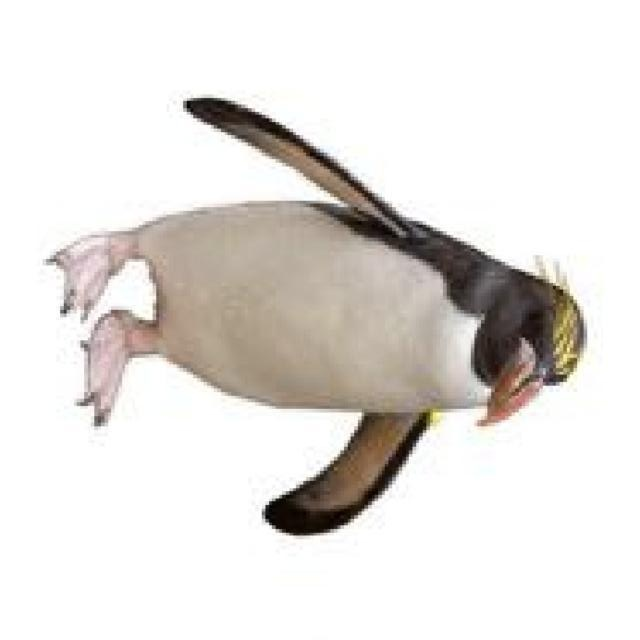penguin: (42, 97, 586, 537)
